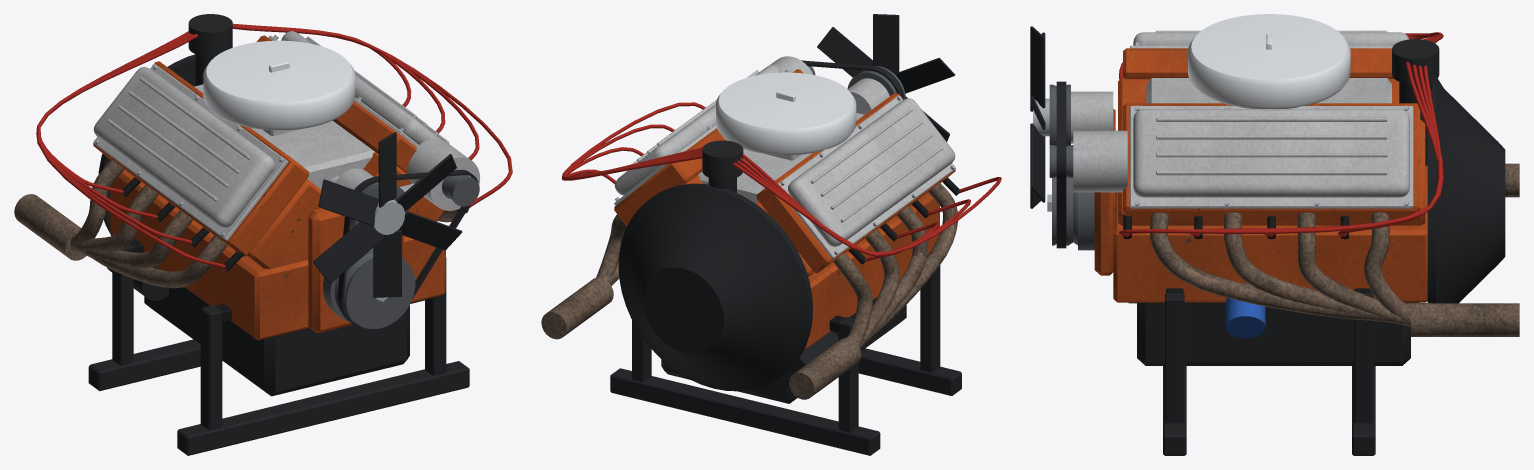
File: v8-engine.glb
3 views of the same model, side by side, from view 1: azimuth 30°, elevation 25°; view 2: azimuth 150°, elevation 25°; view 3: azimuth 270°, elevation 25° (orthographic). The views are drawn at different scales.
Parts seen in each view (by area): view 1: V8_Engine, Fan, Crank_Pulley; view 2: V8_Engine, Fan; view 3: V8_Engine, Fan, Crank_Pulley.
Part boxes in pixels (bbox=[...]): V8_Engine: bbox=[14, 14, 512, 455]; Fan: bbox=[313, 132, 462, 297]; Crank_Pulley: bbox=[334, 248, 415, 329]; V8_Engine: bbox=[541, 56, 1001, 455]; Fan: bbox=[817, 14, 955, 141]; V8_Engine: bbox=[1049, 14, 1519, 455]; Fan: bbox=[1030, 26, 1070, 208]; Crank_Pulley: bbox=[1047, 177, 1077, 245].
Bounding box in the file's own units: 0.9823 × 0.82 × 1.04.
Materials: 12 (3 with a texture image).
